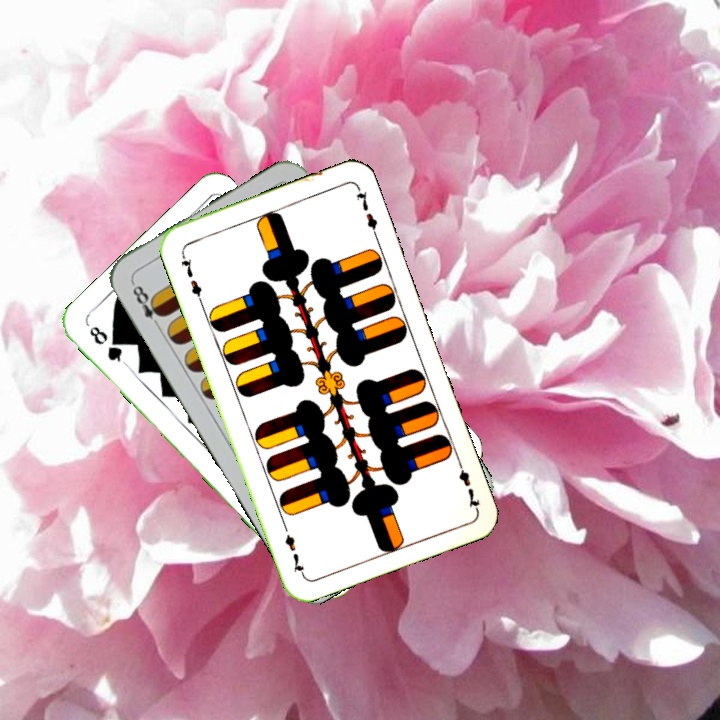E7: (176, 248, 205, 305), (453, 455, 482, 512)
E8: (128, 278, 168, 332)
G8: (85, 321, 129, 368)
